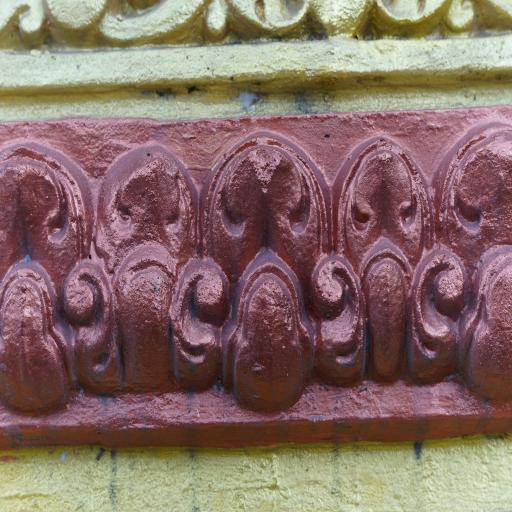la: (179, 141, 361, 427), (318, 126, 460, 409), (64, 136, 202, 411), (420, 124, 512, 434), (0, 133, 87, 413)
